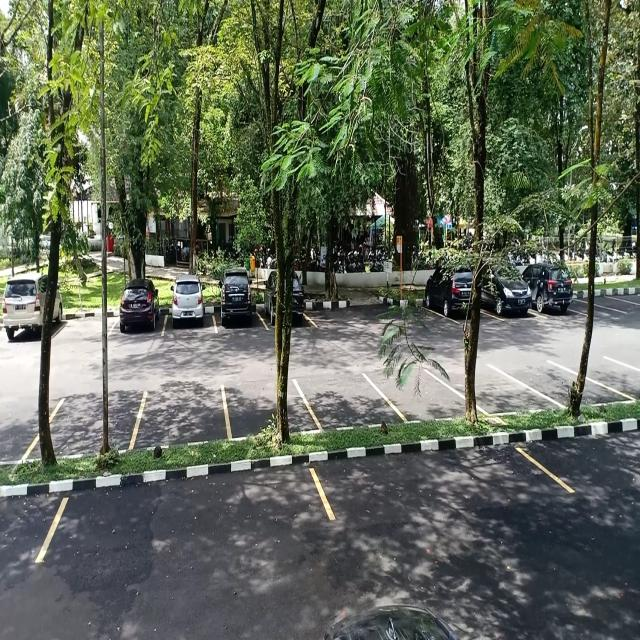empty: (41, 469, 329, 564), (322, 443, 544, 532), (31, 390, 140, 466), (138, 386, 228, 451), (224, 379, 309, 442), (382, 368, 466, 430), (303, 374, 387, 432), (474, 362, 540, 418), (55, 302, 118, 344)
occupied: (2, 276, 61, 344), (162, 279, 217, 338), (113, 282, 167, 339), (210, 280, 258, 344), (424, 266, 470, 324)
